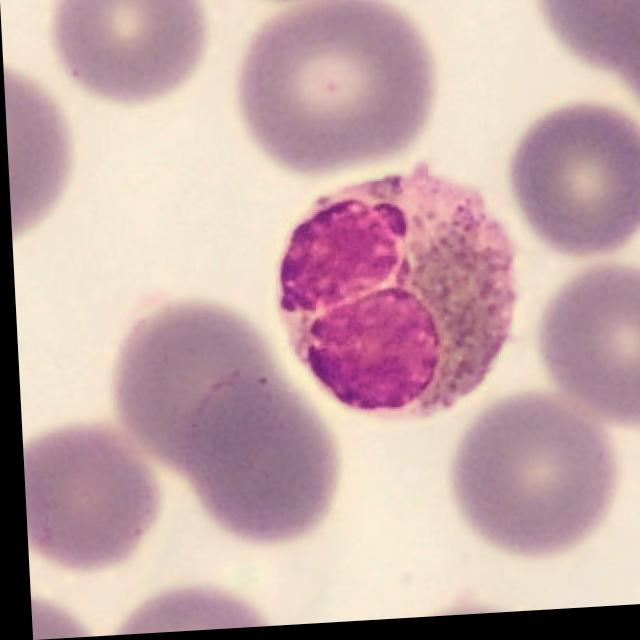Eosinofilo: (272, 170, 514, 427)
